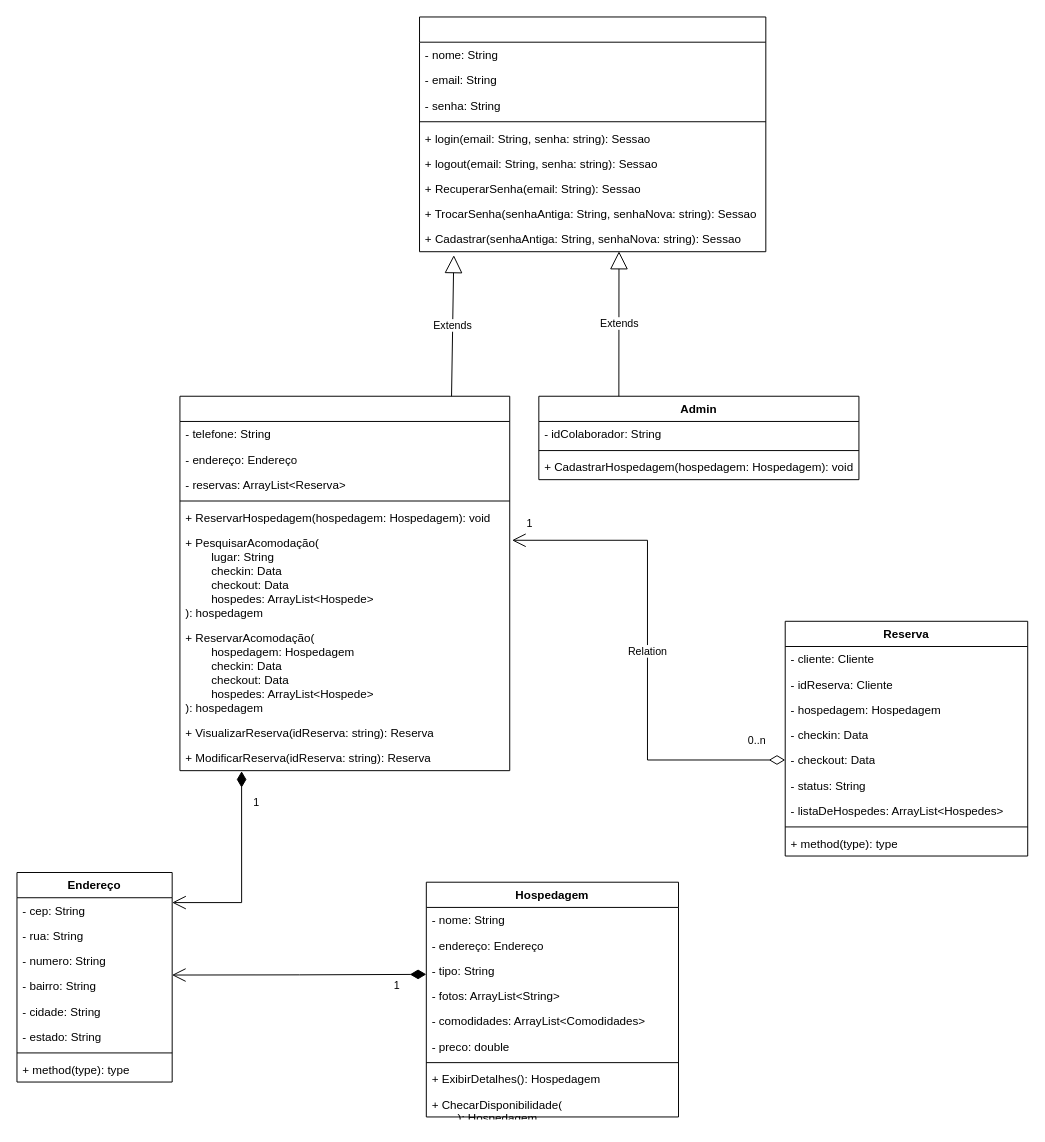
The diagram is 1045 pixels wide and 1142 high, and some of its shapes have lost their labels. The box of each missing label's shape, as (x1, y1, x2, y2) in pixels:
Cliente: (179, 395, 510, 771)
Usuário: (419, 16, 766, 252)
